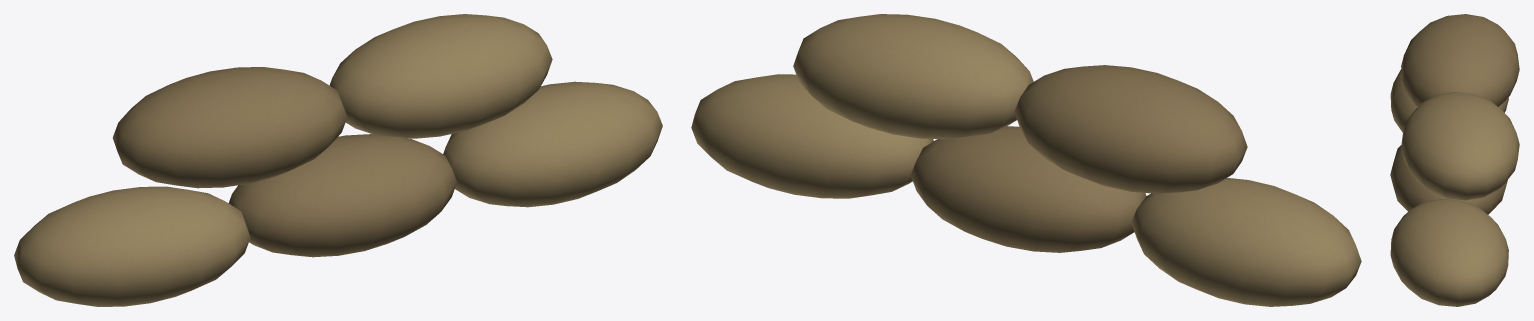
Rendered from sandbags.glb.
3 views of the same model, side by side, from view 1: azimuth 30°, elevation 25°; view 2: azimuth 150°, elevation 25°; view 3: azimuth 270°, elevation 25° (orthographic). The views are drawn at different scales.
Parts seen in each view (by area): view 1: sandbags; view 2: sandbags; view 3: sandbags.
Boxes of the visible parts, left/top/right/bottom form: sandbags: left=14, top=14, right=662, bottom=306; sandbags: left=691, top=14, right=1361, bottom=306; sandbags: left=1390, top=14, right=1519, bottom=306.
Size of the model in its own units: 1.58 by 0.4368 by 0.3644.
Materials: 1 (1 with a texture image).
